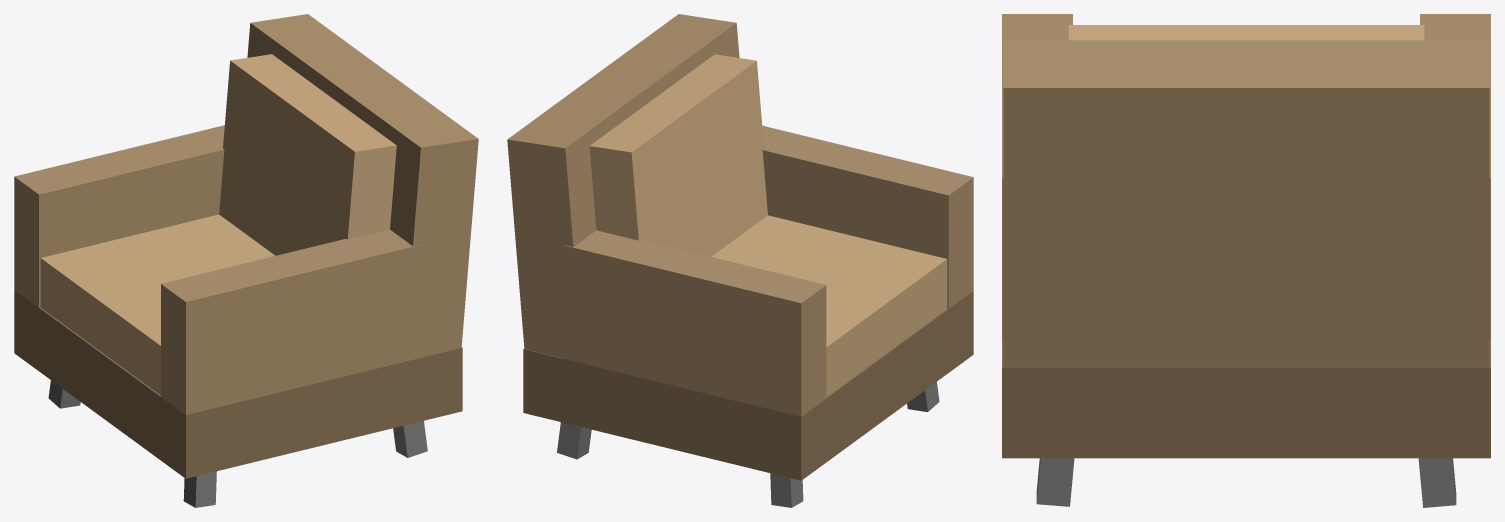
Rendered from vegas-chair-7.glb.
3 views of the same model, side by side, from view 1: azimuth 30°, elevation 25°; view 2: azimuth 150°, elevation 25°; view 3: azimuth 270°, elevation 25° (orthographic). The views are drawn at different scales.
Parts seen in each view (by area): view 1: Roblox reference geometry; view 2: Roblox reference geometry; view 3: Roblox reference geometry.
Part boxes in pixels (<box>): Roblox reference geometry: <box>14,14,478,507</box>; Roblox reference geometry: <box>507,14,973,507</box>; Roblox reference geometry: <box>1002,14,1490,507</box>.
Size of the model in its own units: 4.13 by 4.31 by 4.18.
